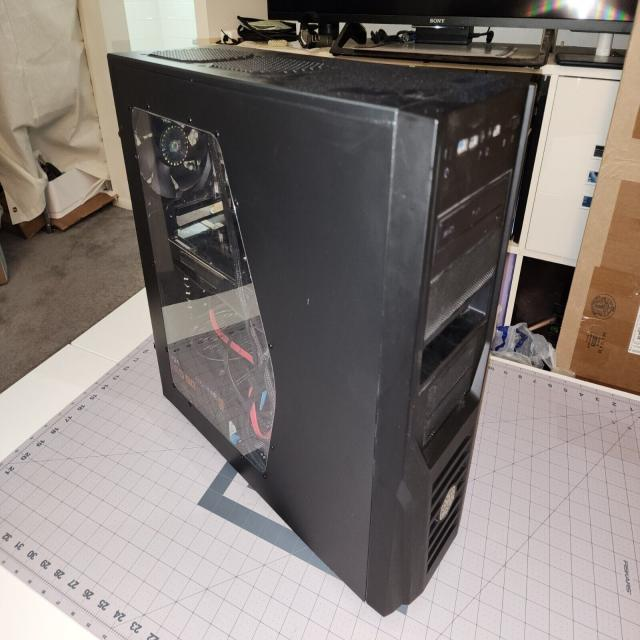Desktop-PC: (105, 36, 560, 626)
